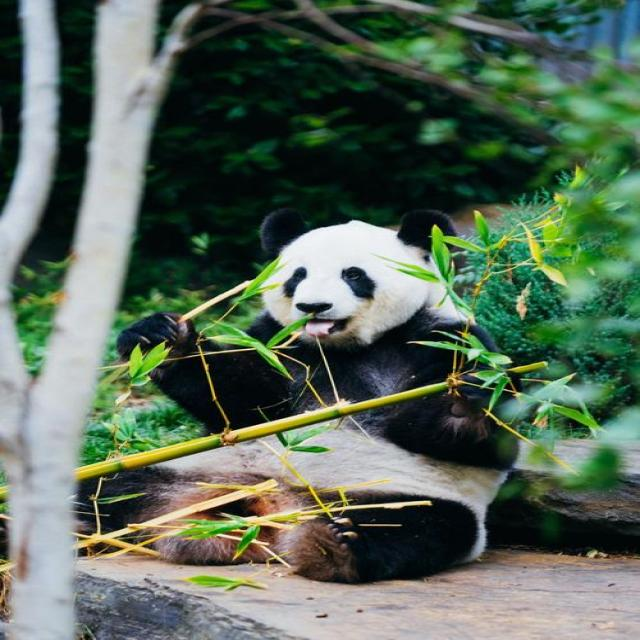panda: (159, 196, 618, 603)
